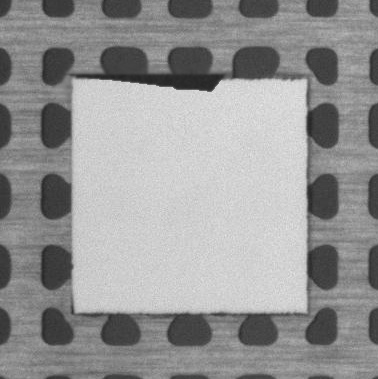DIE_BROKEN: (65, 70, 226, 93)
